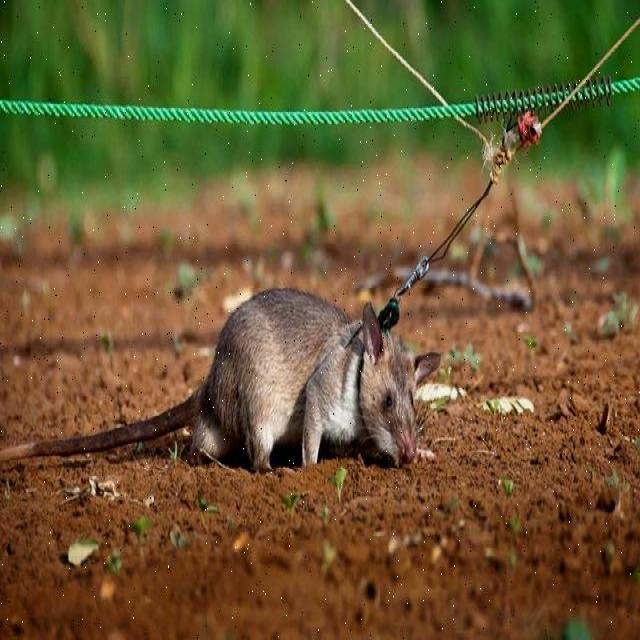rat: (134, 288, 444, 469)
